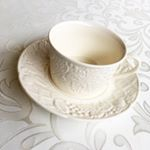cups: (45, 19, 143, 99)
